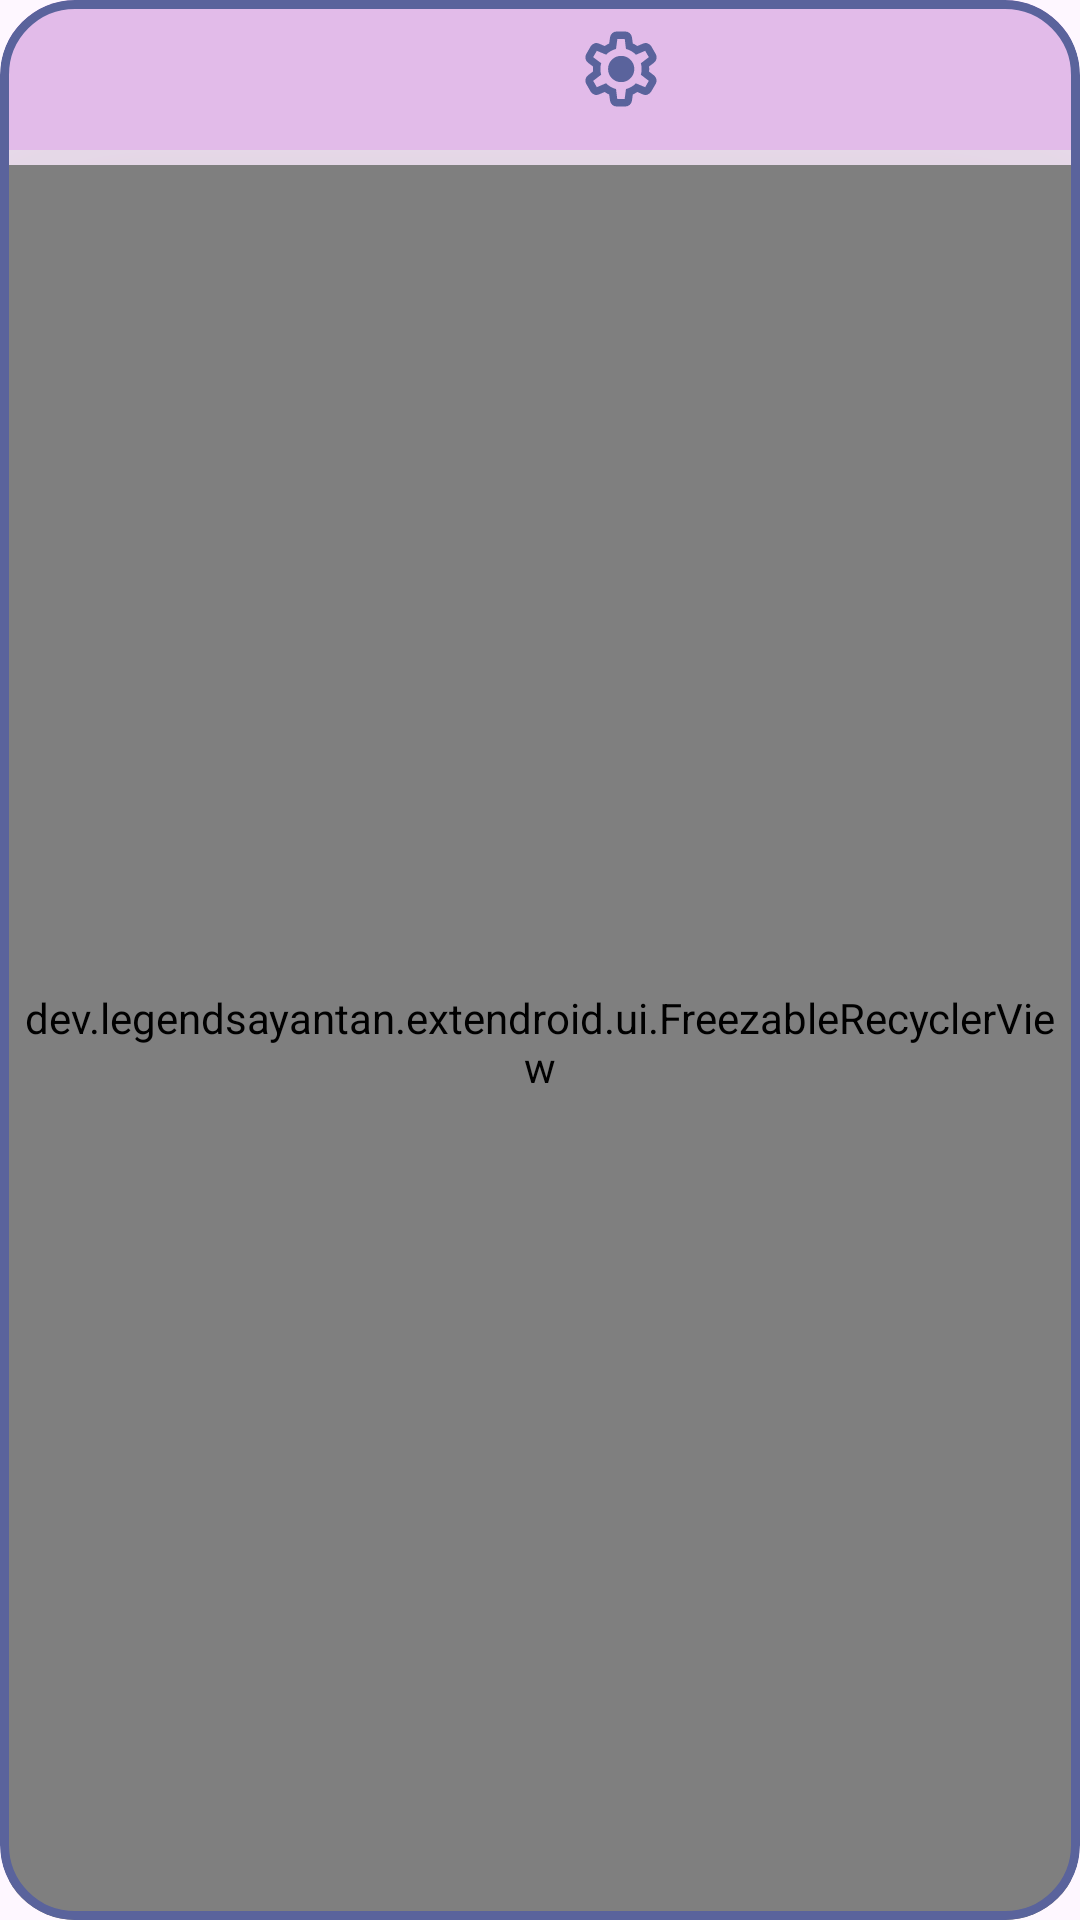

Named icons in this screenshot (1080px×1920px) and their centers, (x,y):
settings: (621,69)
